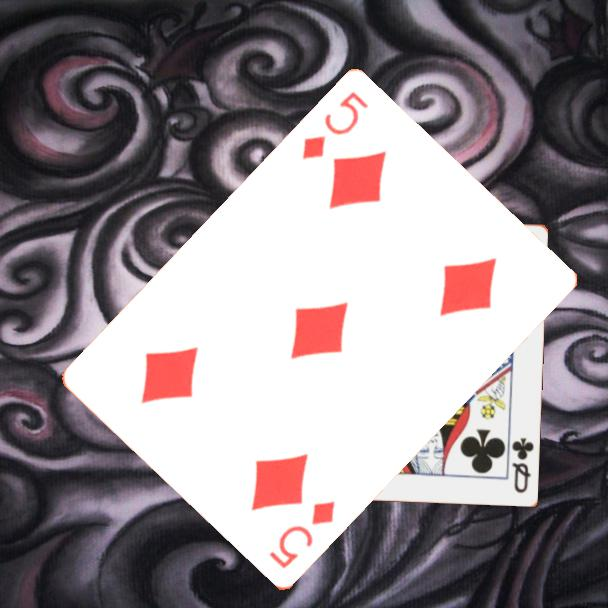c12: (508, 434, 536, 496)
d05: (265, 497, 338, 573), (298, 88, 371, 164)
